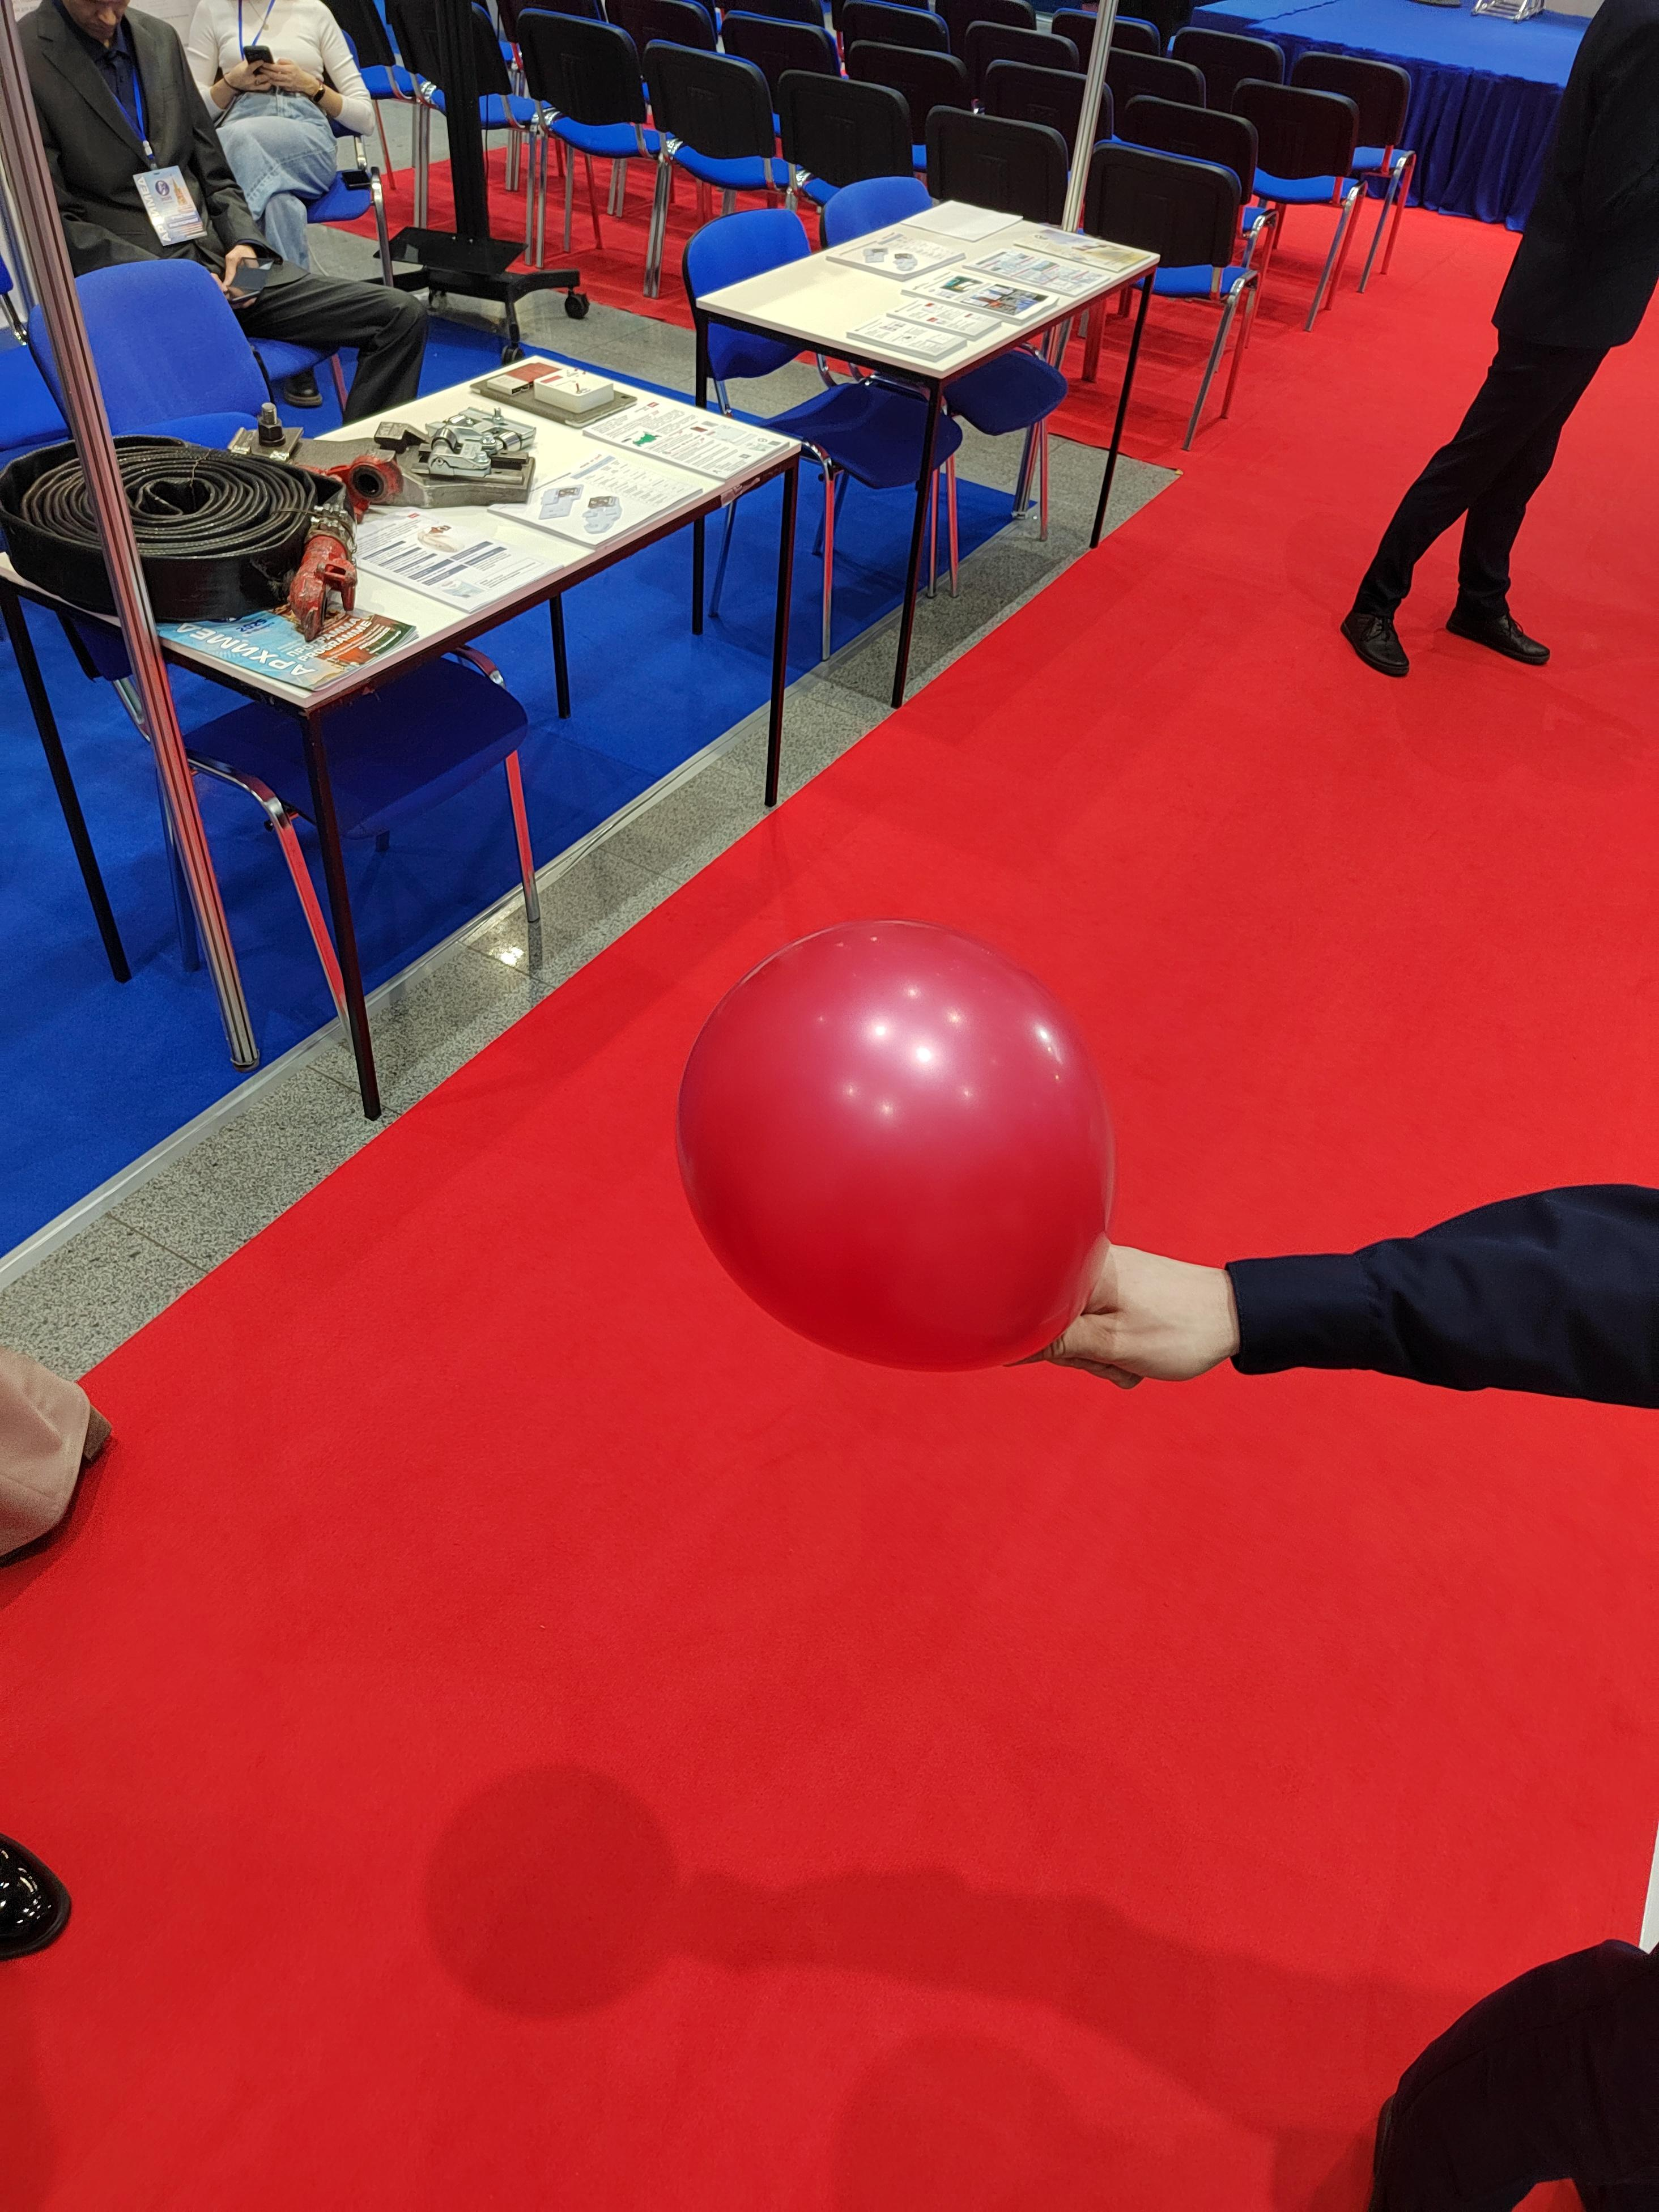red: (657, 885, 1121, 1383)
